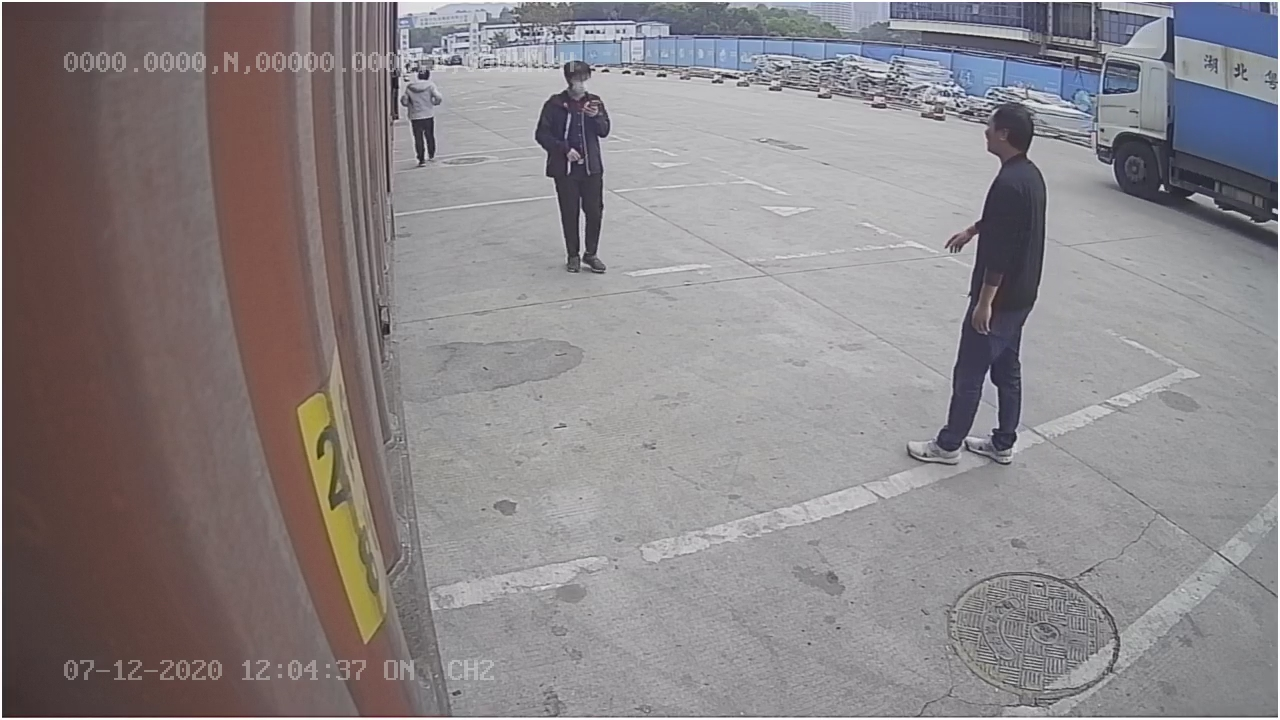person: (903, 98, 1048, 469), (524, 55, 622, 291)
